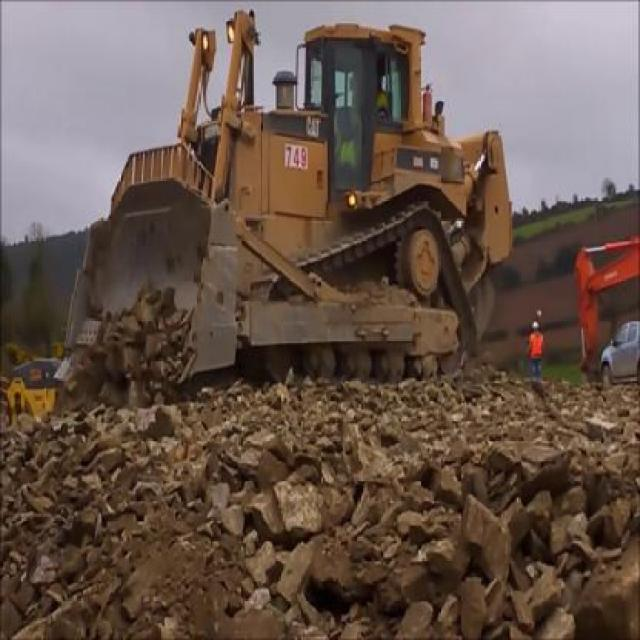Excavator: (573, 232, 639, 380)
